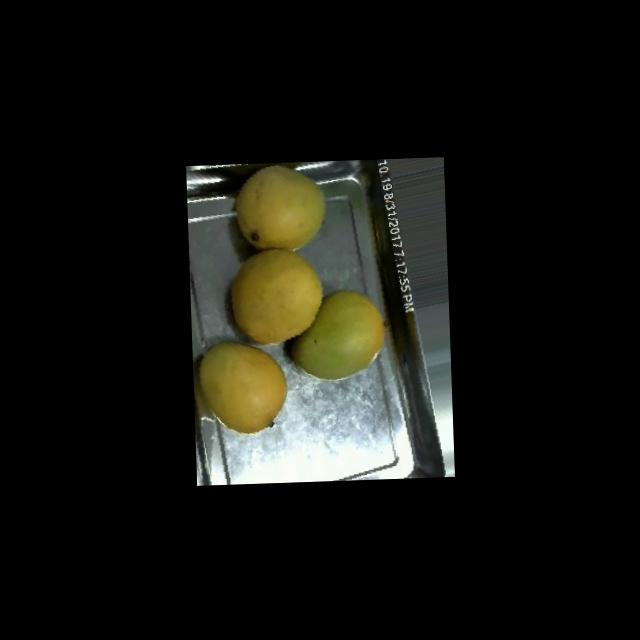Mango: (228, 246, 324, 346), (289, 288, 387, 381), (197, 338, 290, 435), (235, 163, 328, 252)
